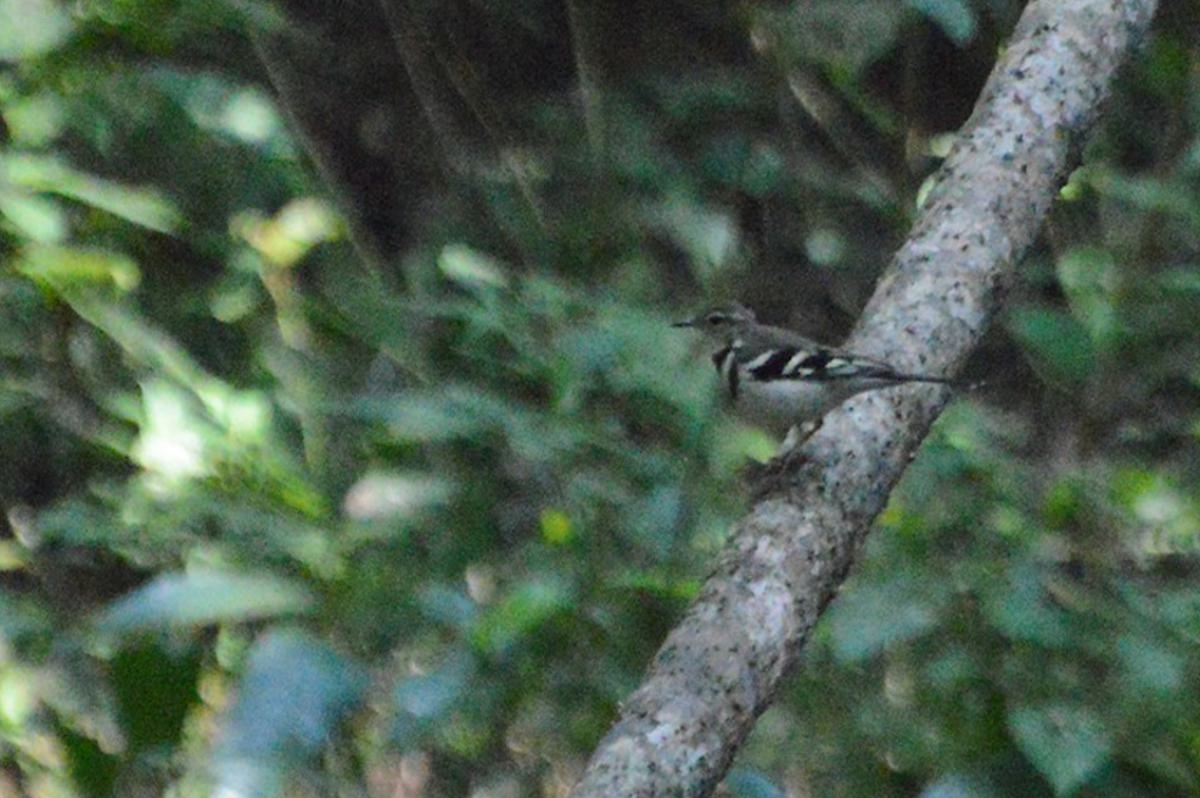wagtail: (657, 310, 958, 441)
